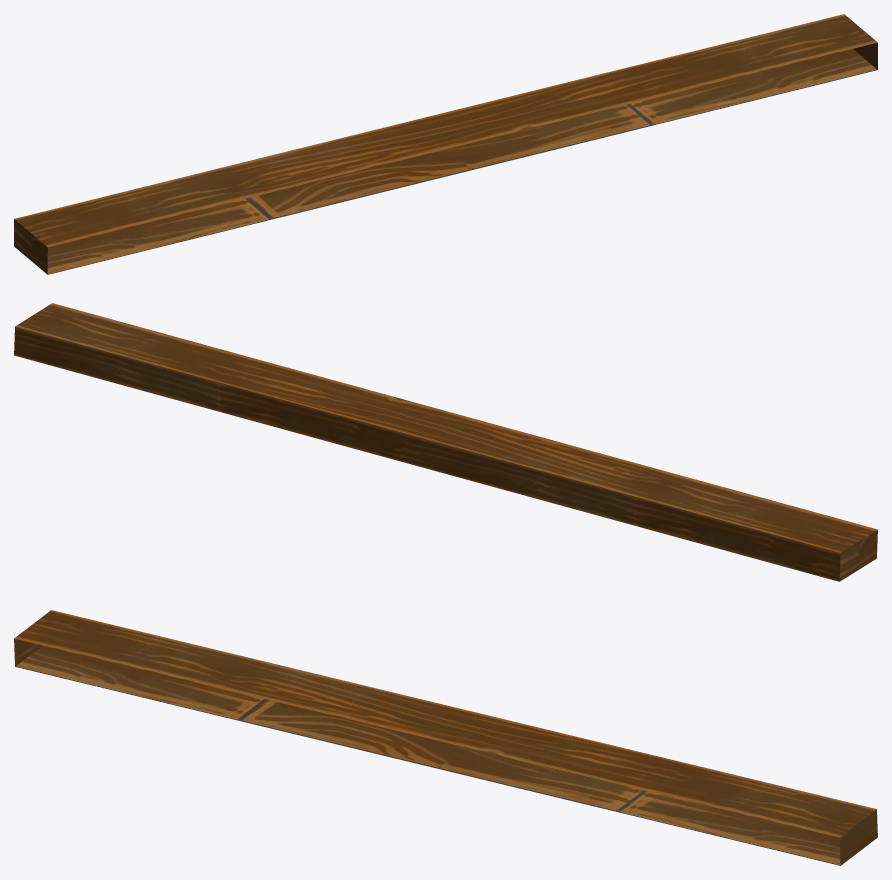
3 views of the same model, one above another, from view 1: azimuth 30°, elevation 25°; view 2: azimuth 150°, elevation 25°; view 3: azimuth 330°, elevation 25° (orthographic). The views are drawn at different scales.
Visible parts, largest first — view 1: Cube.2020; view 2: Cube.2020; view 3: Cube.2020.
Boxes of the visible parts, <box> form: Cube.2020: <box>14,14,877,274</box>; Cube.2020: <box>14,303,877,581</box>; Cube.2020: <box>14,610,877,865</box>.
Size of the model in its own units: 562 by 28.71 by 55.87.
Materials: 1 (1 with a texture image).
